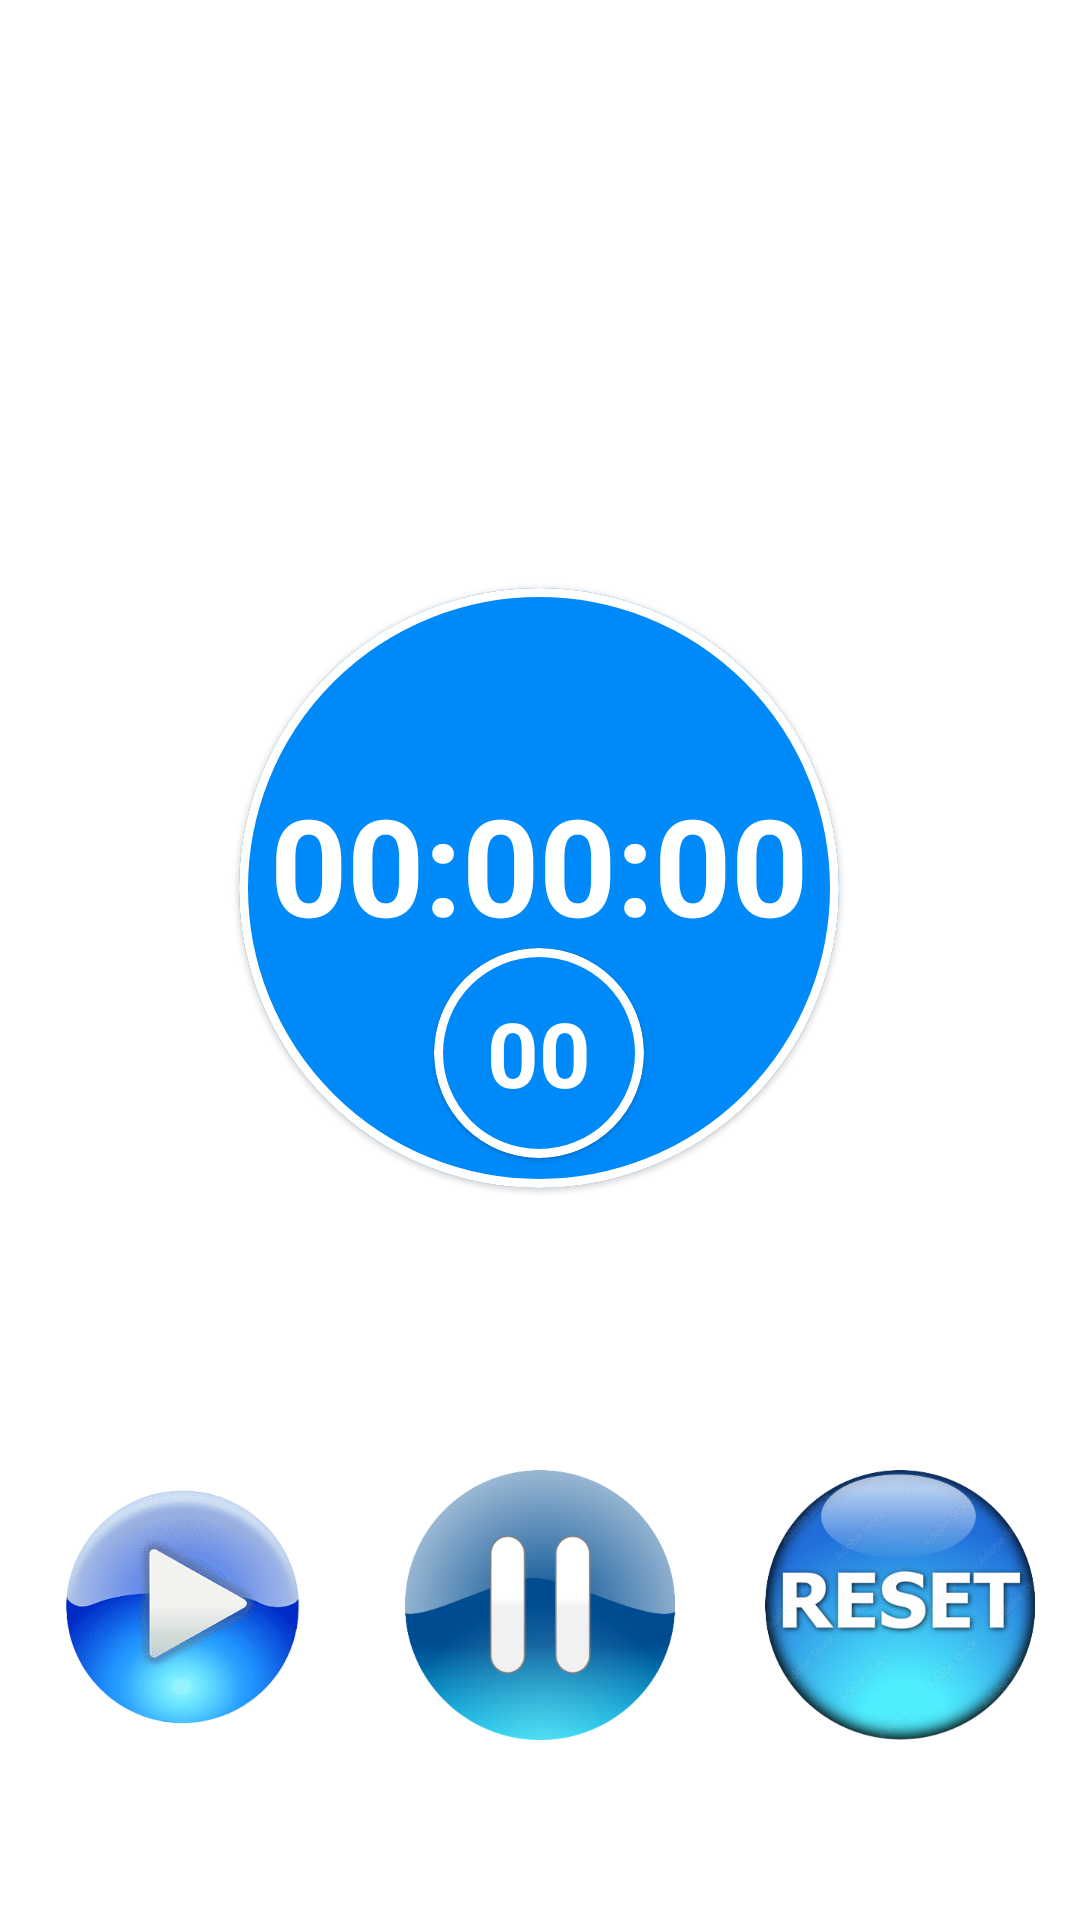

Named icons in this screenshot (1080 × 1920) and their bounding boxes, (x1, y1, x2, y2):
pause: (405, 1470, 675, 1740)
play: (66, 1491, 299, 1724)
